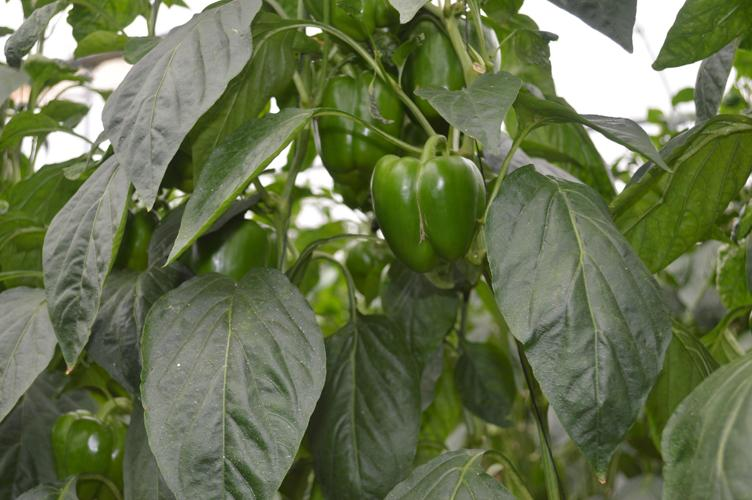BellPepper: (373, 157, 485, 260), (402, 19, 502, 120), (318, 73, 399, 169), (44, 413, 129, 496), (185, 218, 270, 279)
